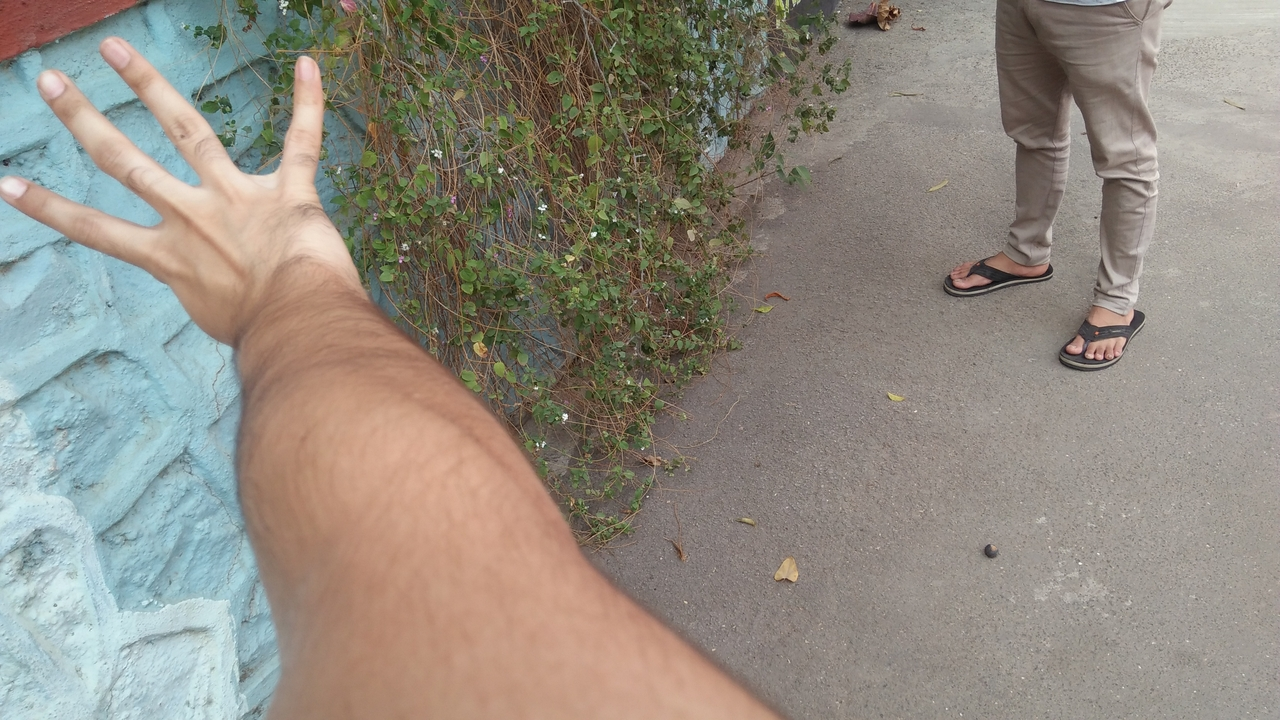fingertip: (88, 24, 146, 70), (280, 44, 326, 82), (31, 71, 78, 106), (3, 157, 28, 215)
